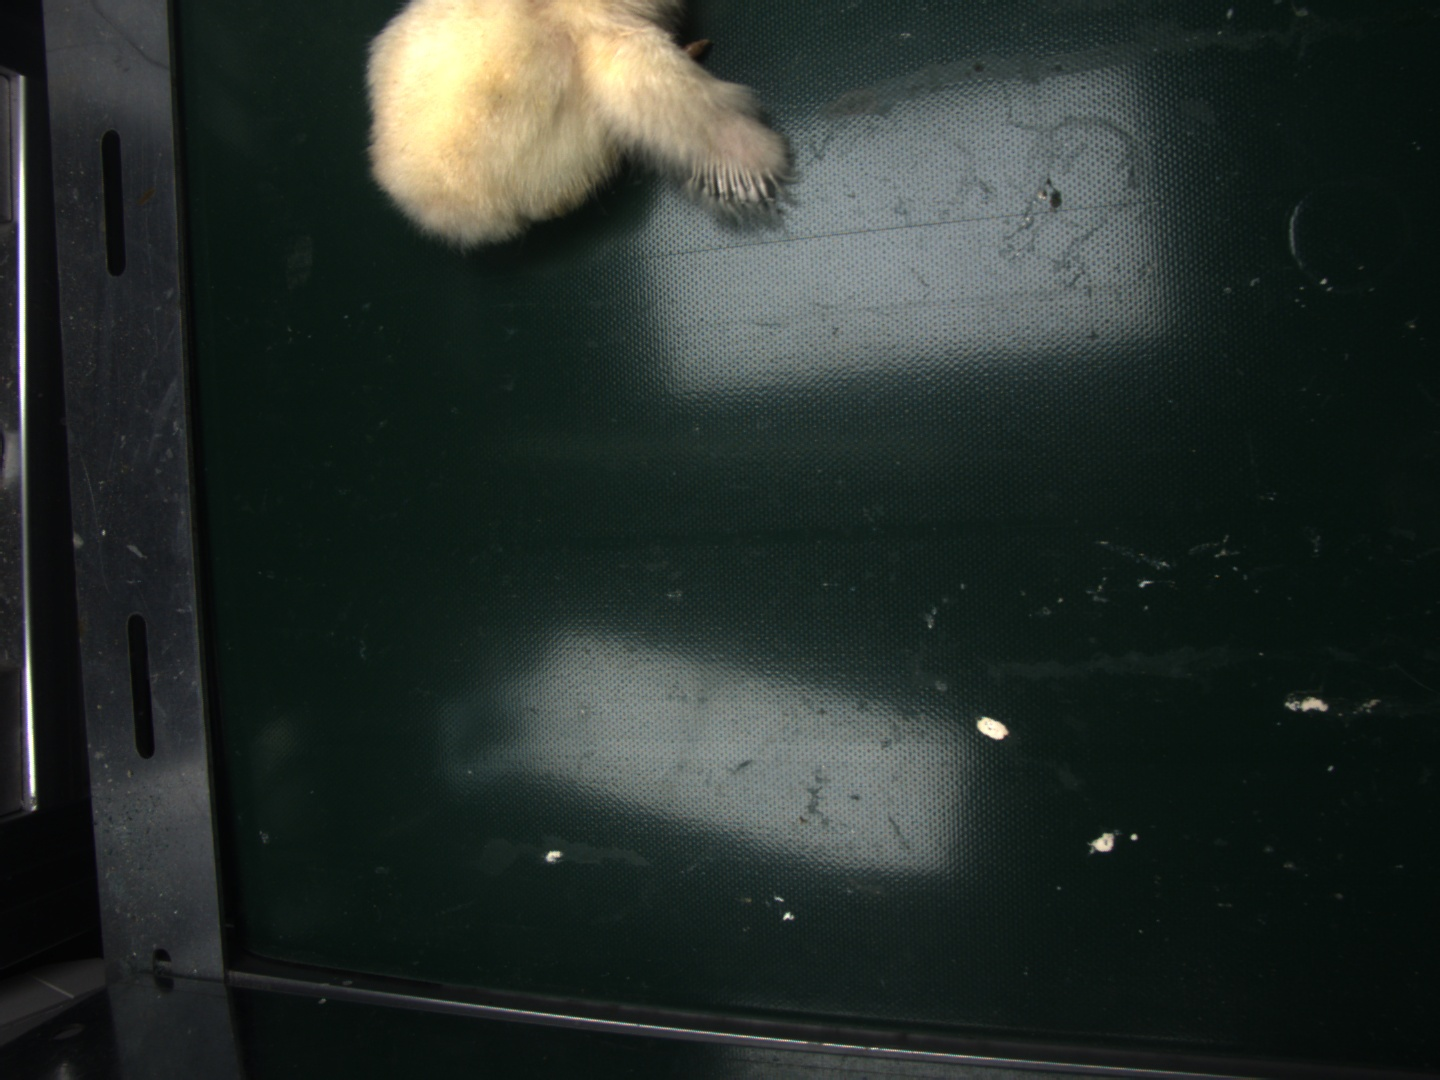male: (691, 157, 779, 206)
